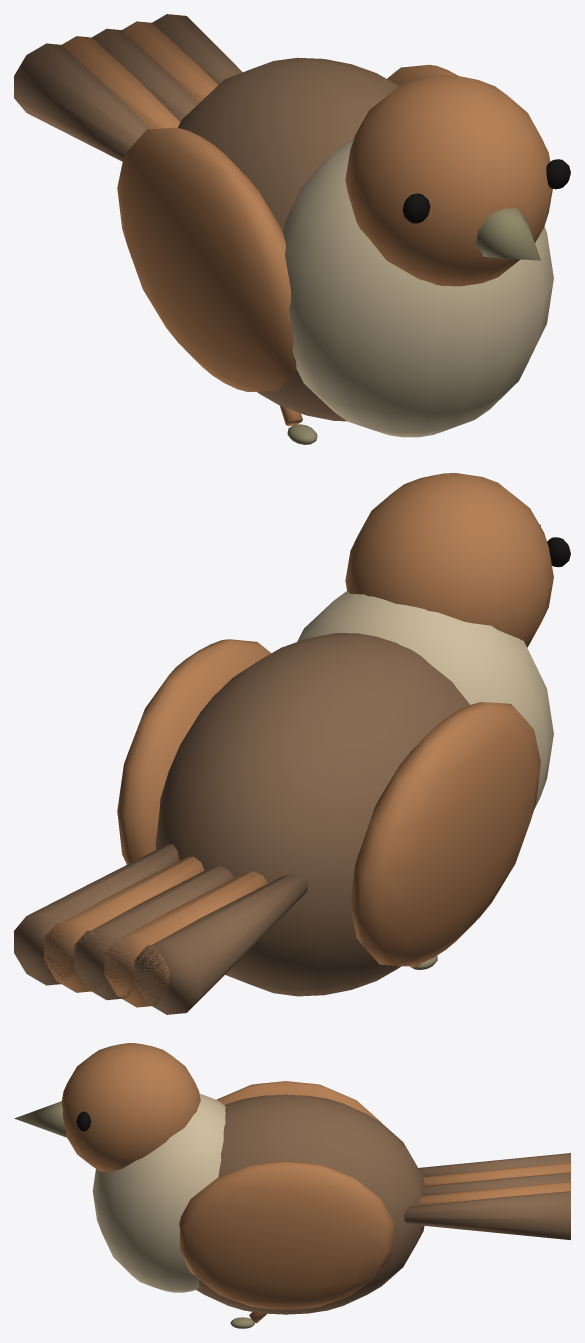
Rendered from highland_grouse_v1.glb.
3 views of the same model, one above another, from view 1: azimuth 30°, elevation 25°; view 2: azimuth 150°, elevation 25°; view 3: azimuth 270°, elevation 25° (orthographic). The views are drawn at different scales.
Visible parts, largest first — view 1: Breast, WingL, Head, Body, TailFeather00, TailFeather01, TailFeather02, TailFeather03, Beak, TailFeather04, WingR, EyeL (+1 smaller); view 2: Body, WingL, Head, Breast, WingR, TailFeather00, TailFeather04, TailFeather02, TailFeather01, TailFeather03; view 3: WingR, Body, Breast, Head, TailFeather04, WingL, TailFeather00, TailFeather03, TailFeather01, TailFeather02, Beak.
Part boxes in pixels (box(x1,y1,x2,y2)): Breast: box(282, 138, 553, 437); WingL: box(117, 127, 296, 391); Head: box(345, 75, 552, 286); Body: box(178, 57, 398, 421); TailFeather00: box(14, 43, 149, 161); TailFeather01: box(62, 36, 180, 129); TailFeather02: box(92, 28, 198, 121); TailFeather03: box(122, 21, 217, 102); Beak: box(476, 208, 540, 260); TailFeather04: box(152, 14, 242, 84); WingR: box(387, 64, 458, 85); EyeL: box(402, 193, 430, 223); Body: box(155, 633, 469, 996); WingL: box(350, 702, 540, 966); Head: box(345, 473, 553, 647); Breast: box(297, 591, 553, 809); WingR: box(117, 639, 271, 864); TailFeather00: box(134, 873, 308, 1014); TailFeather04: box(14, 843, 179, 985); TailFeather02: box(74, 866, 233, 1000); TailFeather01: box(104, 871, 267, 1007); TailFeather03: box(44, 856, 204, 992); WingR: box(179, 1161, 393, 1309); Body: box(196, 1094, 424, 1314); Breast: box(92, 1094, 225, 1292); Head: box(61, 1043, 200, 1172); TailFeather04: box(404, 1191, 570, 1240); WingL: box(216, 1081, 380, 1122); TailFeather00: box(418, 1153, 570, 1176); TailFeather03: box(419, 1181, 570, 1205); TailFeather01: box(423, 1163, 570, 1185); TailFeather02: box(424, 1172, 570, 1195); Beak: box(14, 1101, 66, 1137).
Size of the model in its own units: 0.7876 by 0.9667 by 1.88.
